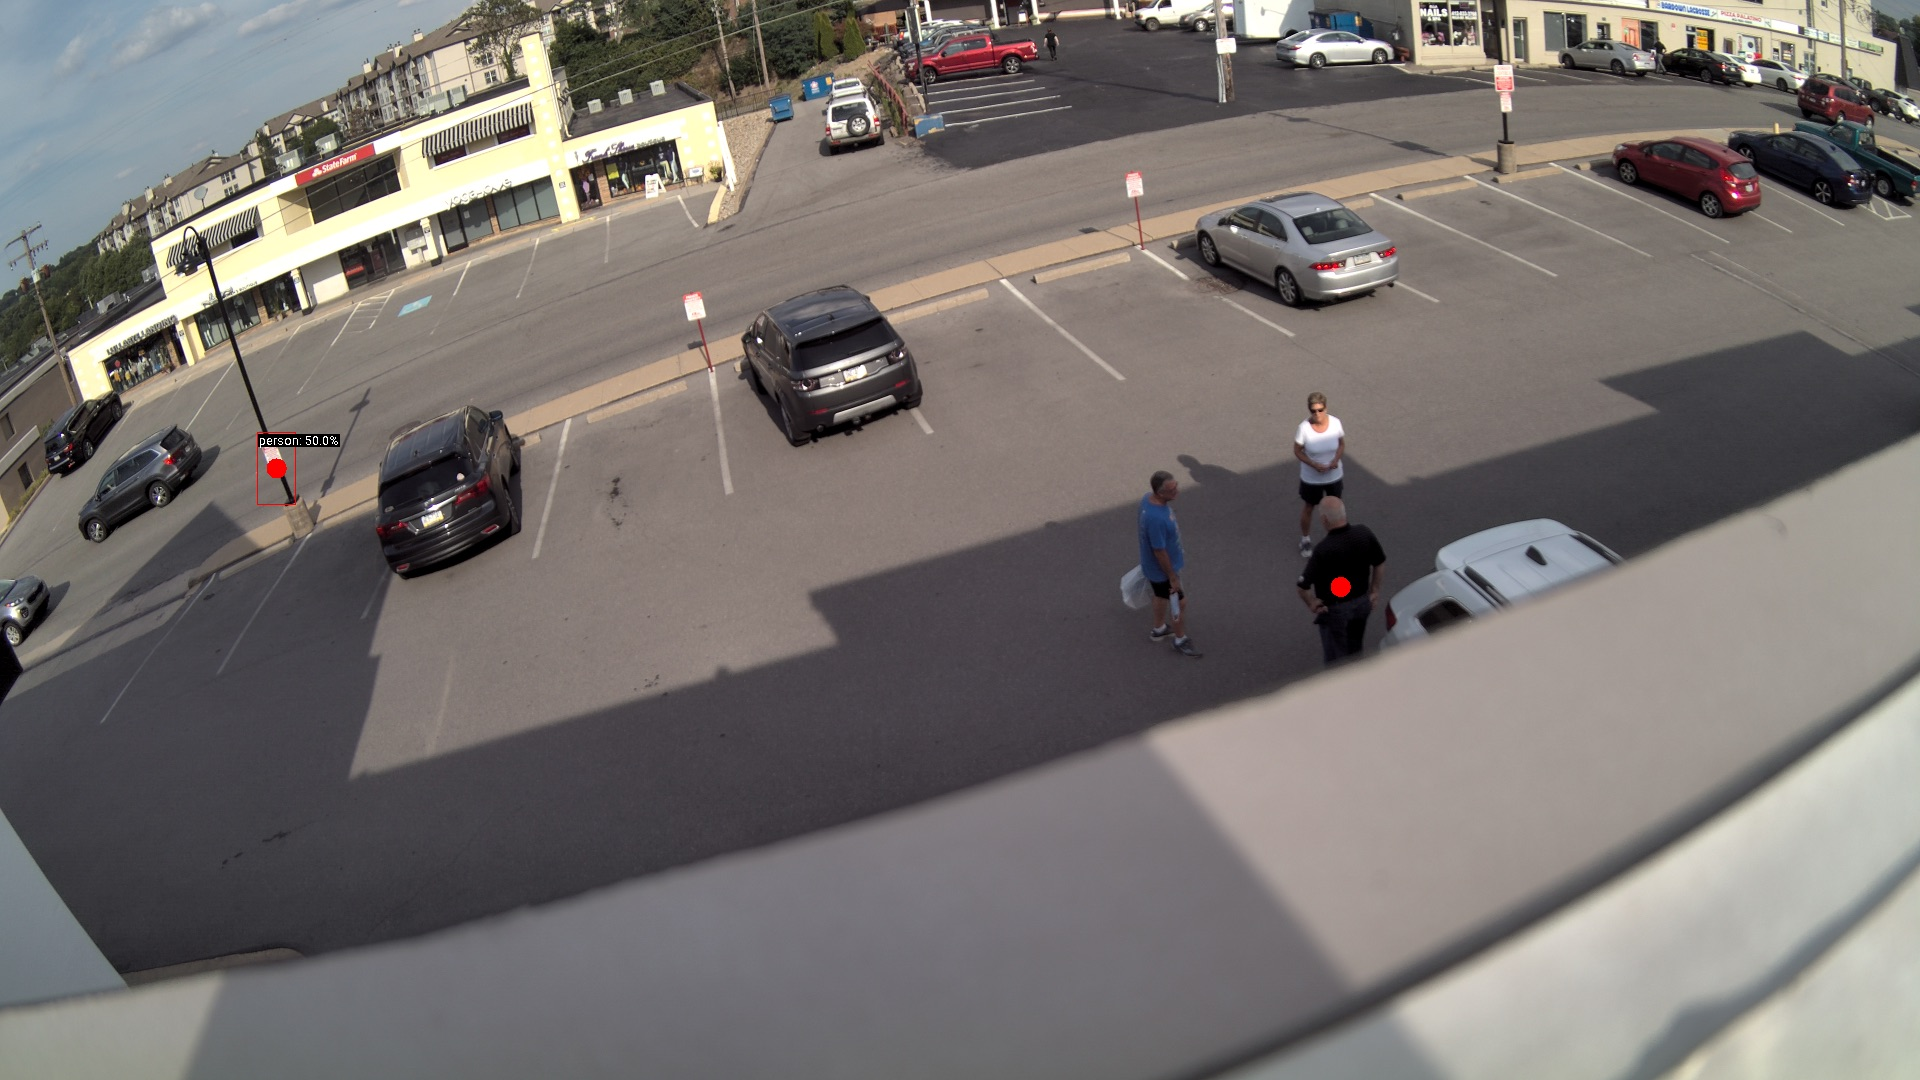person: (1301, 494, 1384, 668), (1140, 472, 1201, 657), (1292, 392, 1355, 548)
